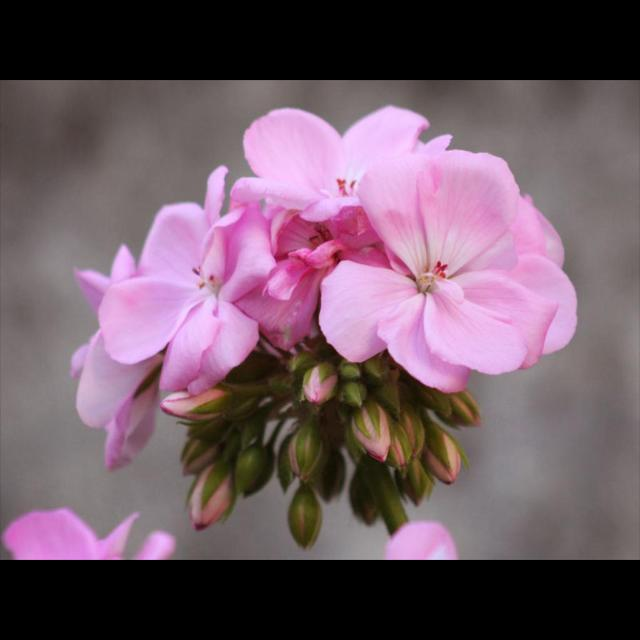Flower: (64, 104, 460, 472), (312, 138, 564, 408), (0, 507, 178, 559), (382, 520, 458, 560)
